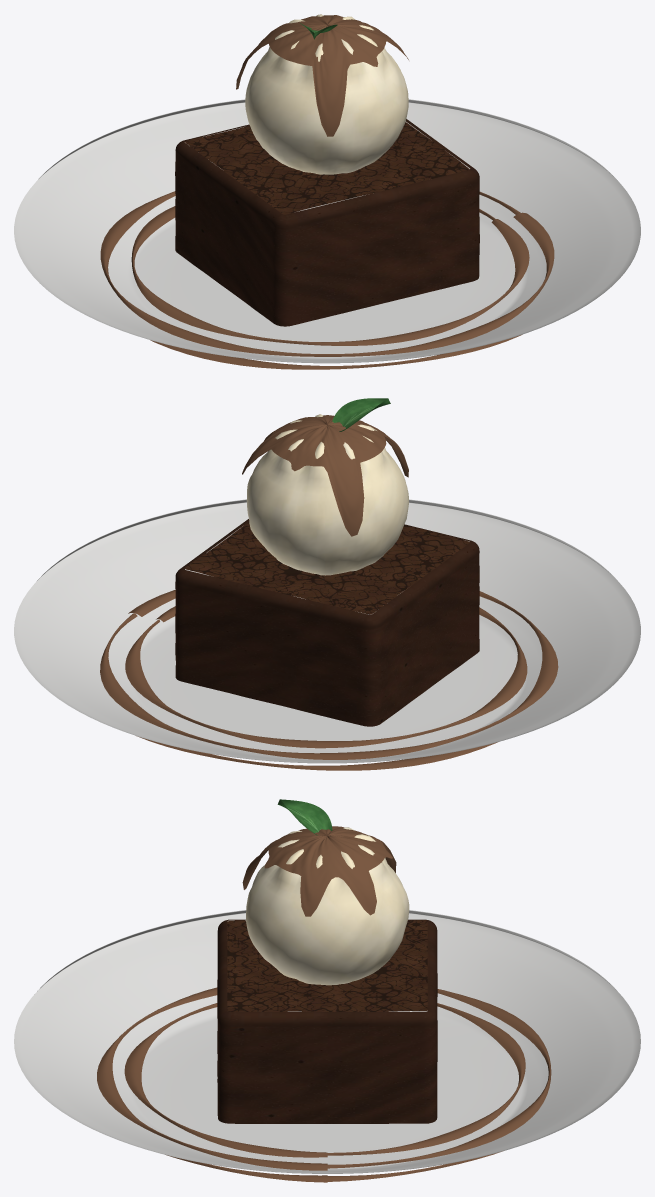
File: brownie.glb
3 renders of one model, top to bottom at view 1: azimuth 30°, elevation 25°; view 2: azimuth 150°, elevation 25°; view 3: azimuth 270°, elevation 25°, orthographic.
Visible parts, largest first — view 1: brownie; view 2: brownie; view 3: brownie.
Boxes of the visible parts, bbox=[...] form: brownie: bbox=[14, 14, 640, 369]; brownie: bbox=[14, 398, 640, 770]; brownie: bbox=[14, 799, 640, 1182].
Bounding box in the file's own units: 0.2 × 0.0949 × 0.2.
Materials: 6 (4 with a texture image).
